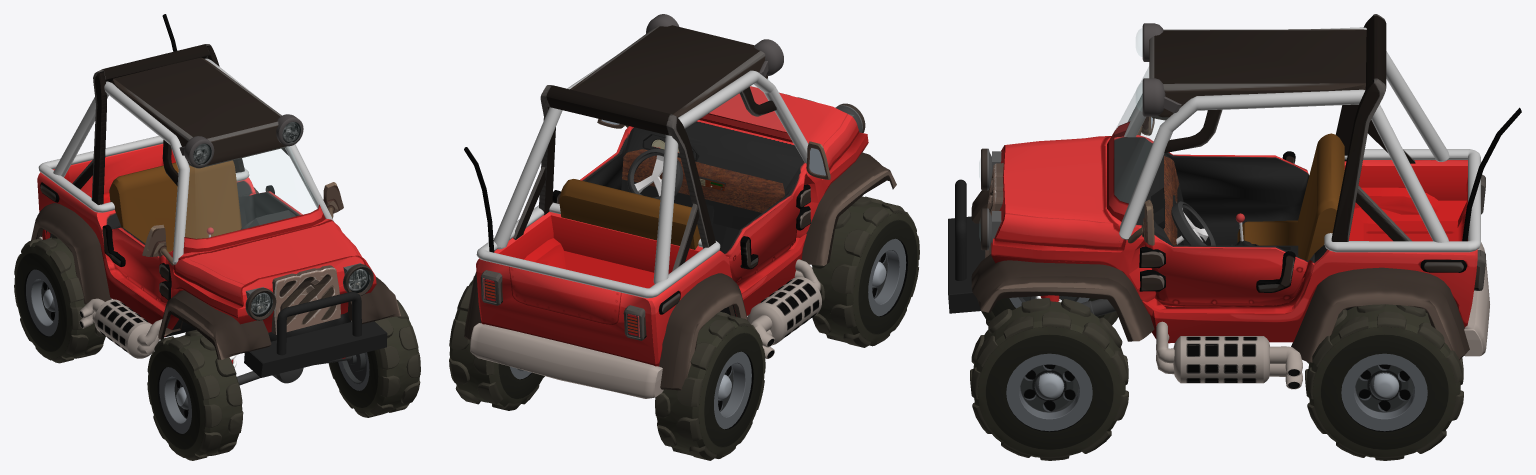
The model's file is car-Bzns4QWc.glb.
The picture shows the model from 3 angles, left to right: view 1: azimuth 30°, elevation 25°; view 2: azimuth 150°, elevation 25°; view 3: azimuth 270°, elevation 25°; orthographic projection. The views are drawn at different scales.
Visible parts, largest first — view 1: HCR2_HC2_Body_1, HCR2_HC2_FrontGlass_13, HCR2_HC2_Roof_30, HCR2_HC2_FR_Wheel_11, HCR2_HC2_Details_8, HCR2_HC2_Seat_39, HCR2_HC2_RR_Wheel_23, HCR2_HC2_Mask_20, HCR2_HC2_Cage2_4, HCR2_HC2_FL_Wheel_10, HCR2_HC2_Chassis_5, HCR2_HC2_Cage_3 (+6 smaller); view 2: HCR2_HC2_Body_1, HCR2_HC2_FR_Wheel_11, HCR2_HC2_RR_Wheel_23, HCR2_HC2_Roof_30, HCR2_HC2_Details_8, HCR2_HC2_Cage2_4, HCR2_HC2_Cage_3, HCR2_HC2_Rear_Bumper_25, HCR2_HC2_Seat_39, HCR2_HC2_RL_Wheel_21, HCR2_HC2_Mask_20, HCR2_HC2_Exhausts_9 (+6 smaller); view 3: HCR2_HC2_Body_1, HCR2_HC2_FL_Wheel_10, HCR2_HC2_RL_Wheel_21, HCR2_HC2_Details_8, HCR2_HC2_Roof_30, HCR2_HC2_Cage2_4, HCR2_HC2_Mask_20, HCR2_HC2_Cage_3, HCR2_HC2_Exhausts_9, HCR2_HC2_Seat_39, HCR2_HC2_FrontGlass_13, HCR2_HC2_Chassis_5 (+9 smaller).
Part boxes in pixels (x1,y1,x2,y2): HCR2_HC2_Body_1: (37, 144, 376, 337); HCR2_HC2_FrontGlass_13: (183, 146, 325, 253); HCR2_HC2_Roof_30: (111, 57, 286, 168); HCR2_HC2_FR_Wheel_11: (147, 329, 243, 460); HCR2_HC2_Details_8: (31, 185, 400, 359); HCR2_HC2_Seat_39: (109, 160, 241, 252); HCR2_HC2_RR_Wheel_23: (14, 234, 105, 363); HCR2_HC2_Mask_20: (176, 220, 362, 306); HCR2_HC2_Cage2_4: (38, 58, 333, 264); HCR2_HC2_FL_Wheel_10: (328, 299, 420, 417); HCR2_HC2_Chassis_5: (50, 233, 387, 377); HCR2_HC2_Cage_3: (72, 44, 288, 204); HCR2_HC2_Body_1: (476, 120, 868, 366); HCR2_HC2_FR_Wheel_11: (812, 196, 919, 347); HCR2_HC2_RR_Wheel_23: (655, 311, 765, 460); HCR2_HC2_Roof_30: (570, 25, 767, 117); HCR2_HC2_Details_8: (464, 152, 896, 390); HCR2_HC2_Cage2_4: (476, 57, 808, 298); HCR2_HC2_Cage_3: (513, 85, 776, 271); HCR2_HC2_Rear_Bumper_25: (470, 323, 663, 398); HCR2_HC2_Seat_39: (559, 179, 700, 249); HCR2_HC2_RL_Wheel_21: (449, 276, 544, 410); HCR2_HC2_Mask_20: (709, 86, 859, 170); HCR2_HC2_Exhausts_9: (747, 259, 821, 358); HCR2_HC2_Body_1: (991, 135, 1477, 343); HCR2_HC2_FL_Wheel_10: (970, 298, 1128, 460); HCR2_HC2_RL_Wheel_21: (1305, 304, 1463, 460); HCR2_HC2_Details_8: (971, 151, 1469, 362); HCR2_HC2_Roof_30: (1149, 29, 1366, 120); HCR2_HC2_Cage2_4: (1119, 27, 1480, 252); HCR2_HC2_Mask_20: (995, 136, 1119, 250); HCR2_HC2_Cage_3: (1164, 14, 1415, 241); HCR2_HC2_Exhausts_9: (1156, 321, 1302, 389); HCR2_HC2_Seat_39: (1237, 133, 1344, 260); HCR2_HC2_FrontGlass_13: (1107, 67, 1167, 221); HCR2_HC2_Chassis_5: (948, 216, 1352, 313).
Size of the model in its own units: 2.05 by 2.5 by 3.71.
Materials: 29 (13 with a texture image).
